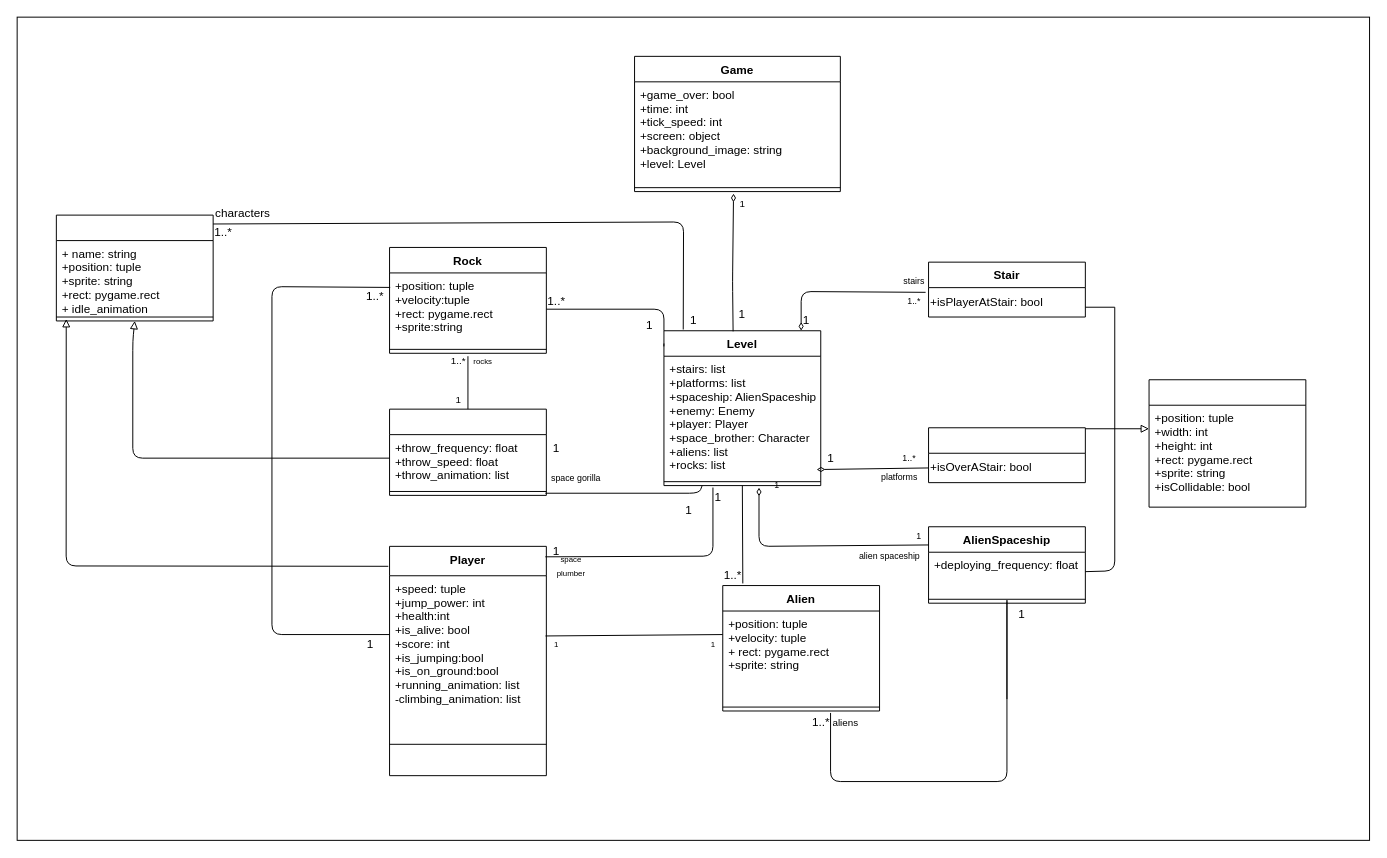
Image size: 1387x858. Some labels were removed from this diagram. Here are the shapes that lost their labels. From the top down, the box of each, then its label:
(55, 214, 213, 321): Character
(389, 408, 546, 495): Enemy
(928, 427, 1085, 483): Platform
(1148, 379, 1306, 507): Obstacle
